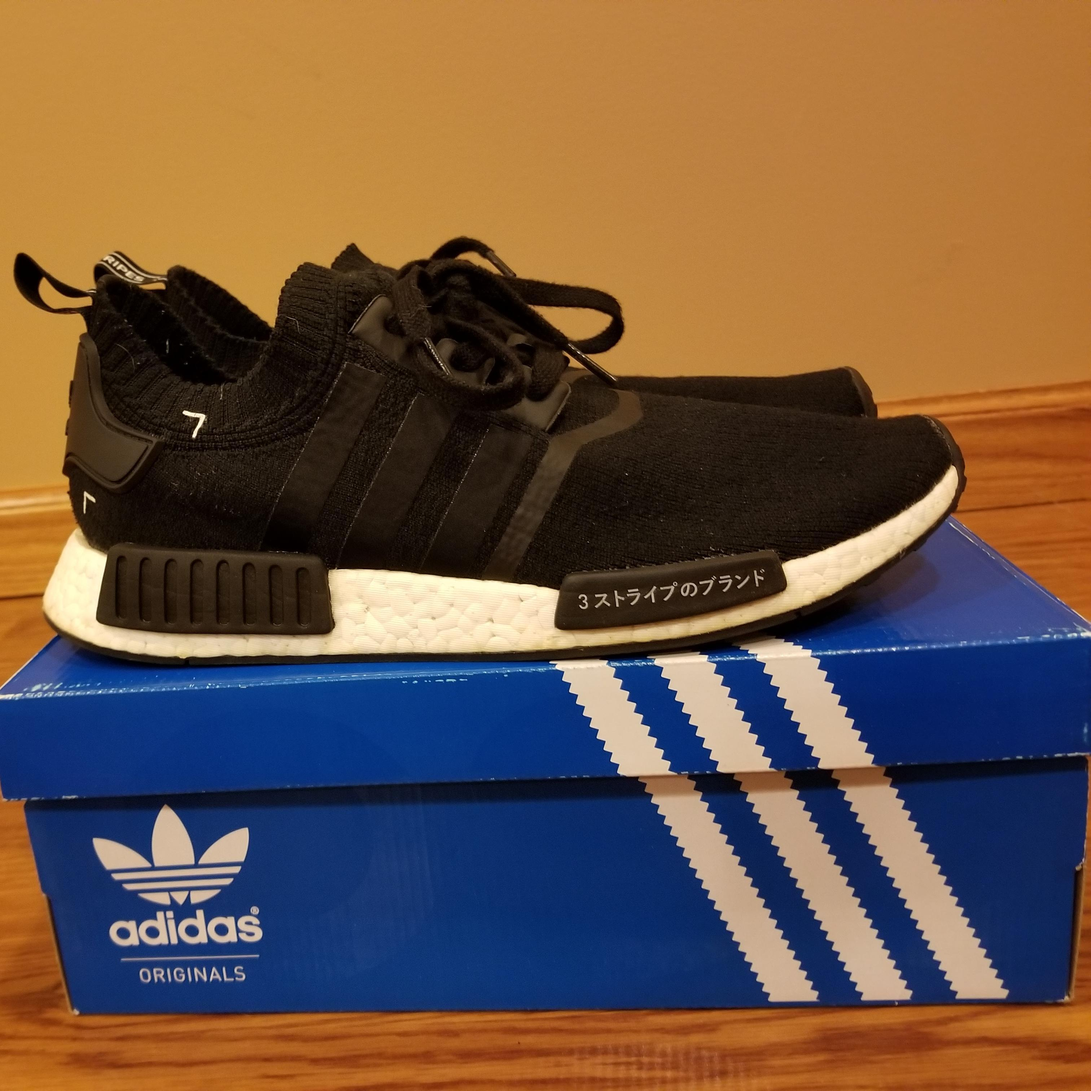sneaker: (12, 209, 1091, 675)
